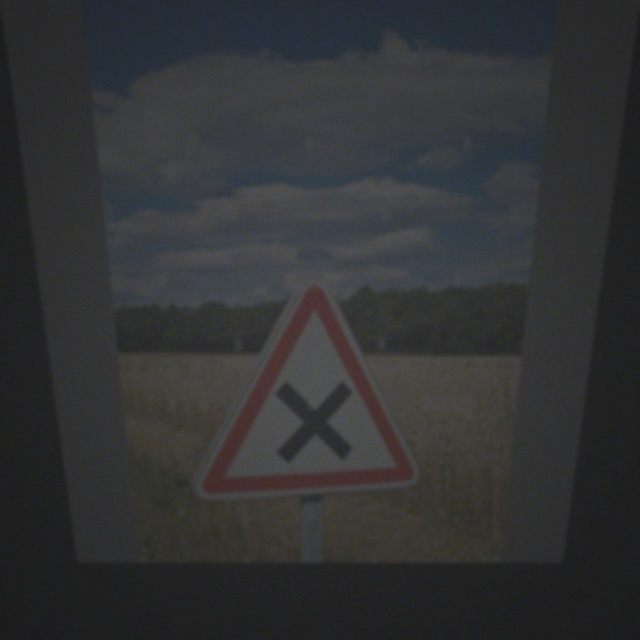Cross_Road: (191, 279, 429, 499)
